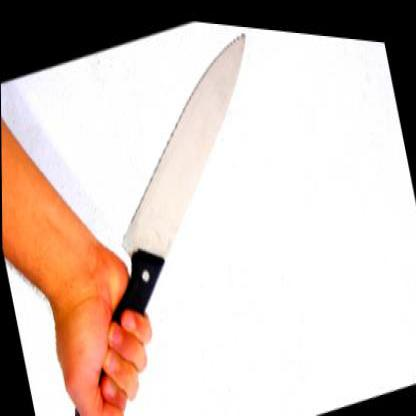knife: (43, 4, 305, 388)
